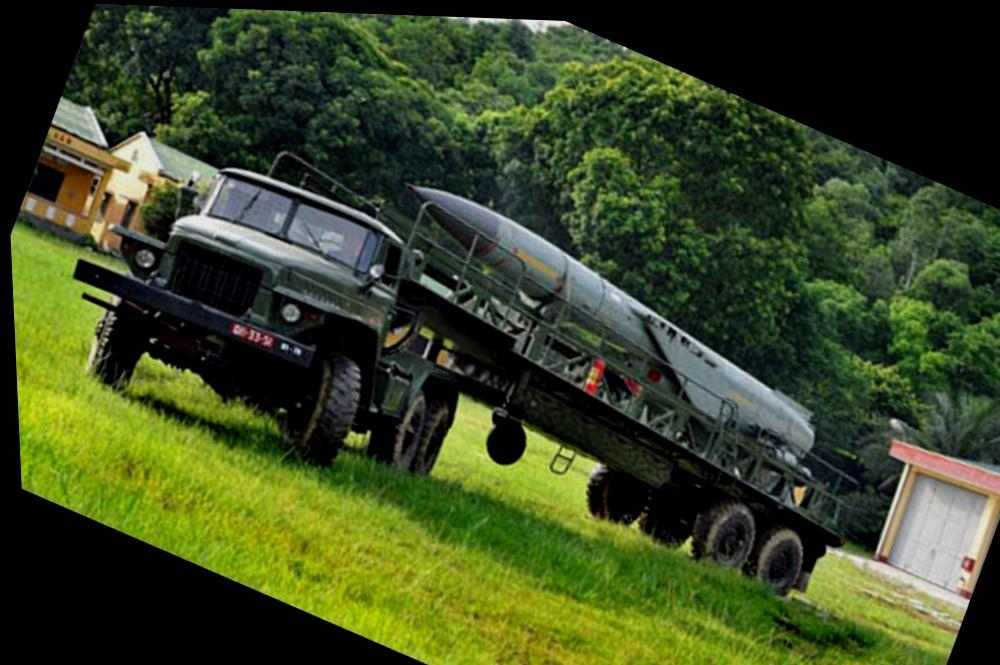License_Plate: (230, 321, 277, 352)
